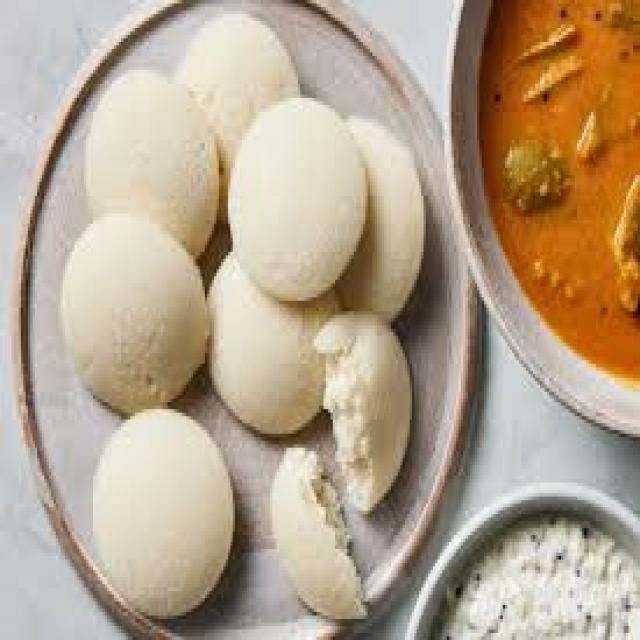IDLI: (61, 213, 207, 413), (93, 409, 233, 612), (230, 98, 365, 297), (84, 70, 216, 255), (209, 252, 337, 434), (175, 14, 298, 196), (314, 311, 407, 511), (337, 119, 421, 318), (272, 448, 365, 616)
